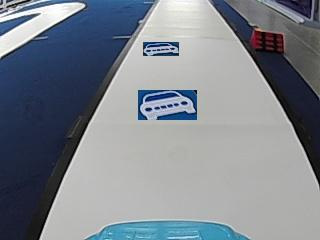bomb: (249, 29, 284, 51)
